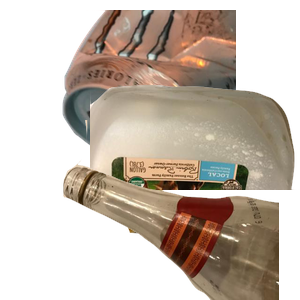glass: (60, 120, 300, 300)
metal: (60, 10, 300, 175)
plastic: (90, 82, 300, 262)
trash: (109, 175, 279, 300)
